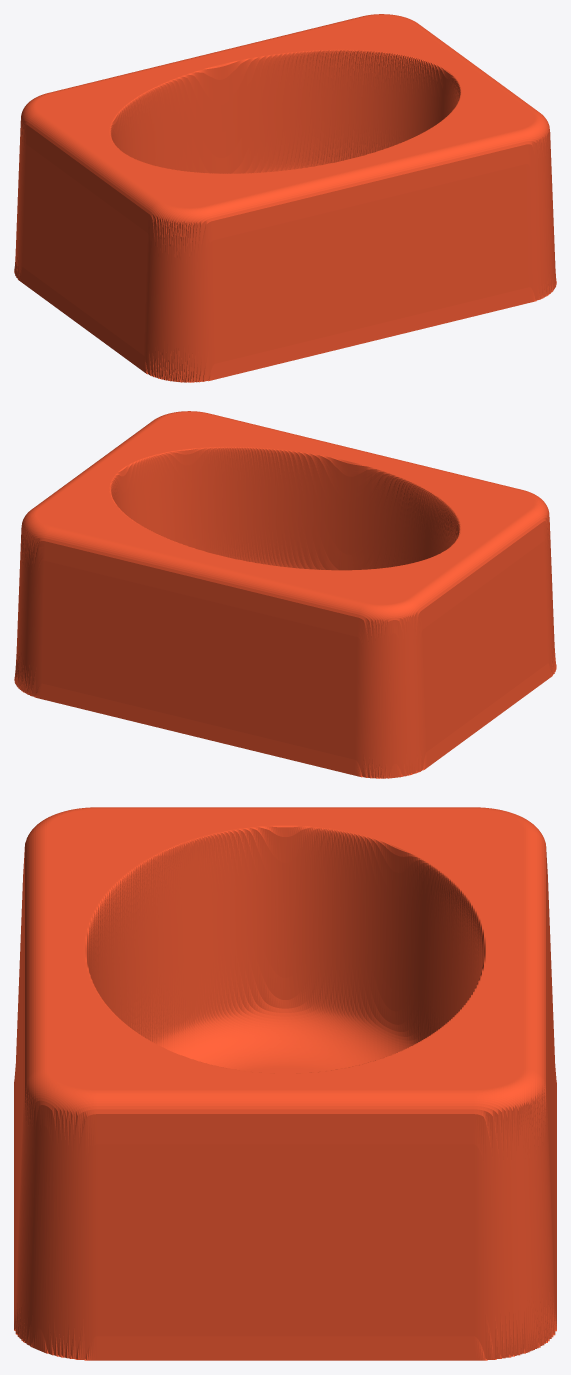
File: mold.glb
3 renders of one model, top to bottom at view 1: azimuth 30°, elevation 25°; view 2: azimuth 150°, elevation 25°; view 3: azimuth 270°, elevation 25°, orthographic. The views are drawn at different scales.
Parts seen in each view (by area): view 1: geometry_0; view 2: geometry_0; view 3: geometry_0.
Part boxes in pixels (bbox=[...]): geometry_0: bbox=[14, 14, 556, 382]; geometry_0: bbox=[14, 411, 556, 778]; geometry_0: bbox=[14, 807, 556, 1360].
Size of the model in its own units: 0.0798 by 0.031 by 0.0594.
